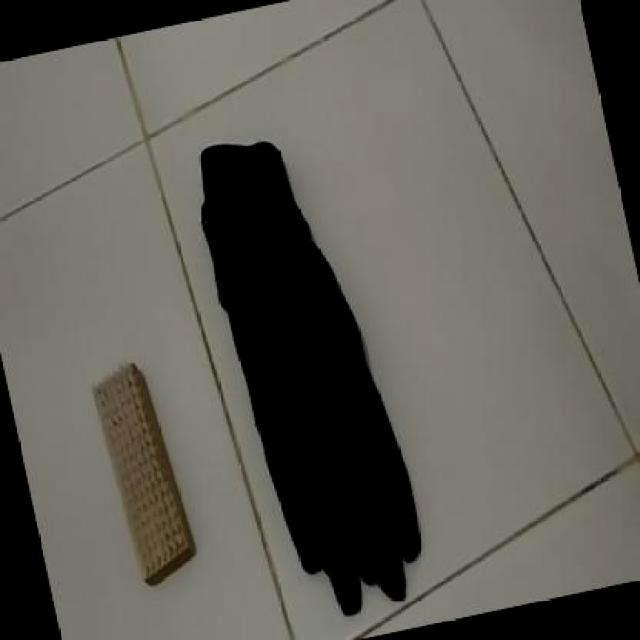Guantes: (199, 140, 422, 616)
